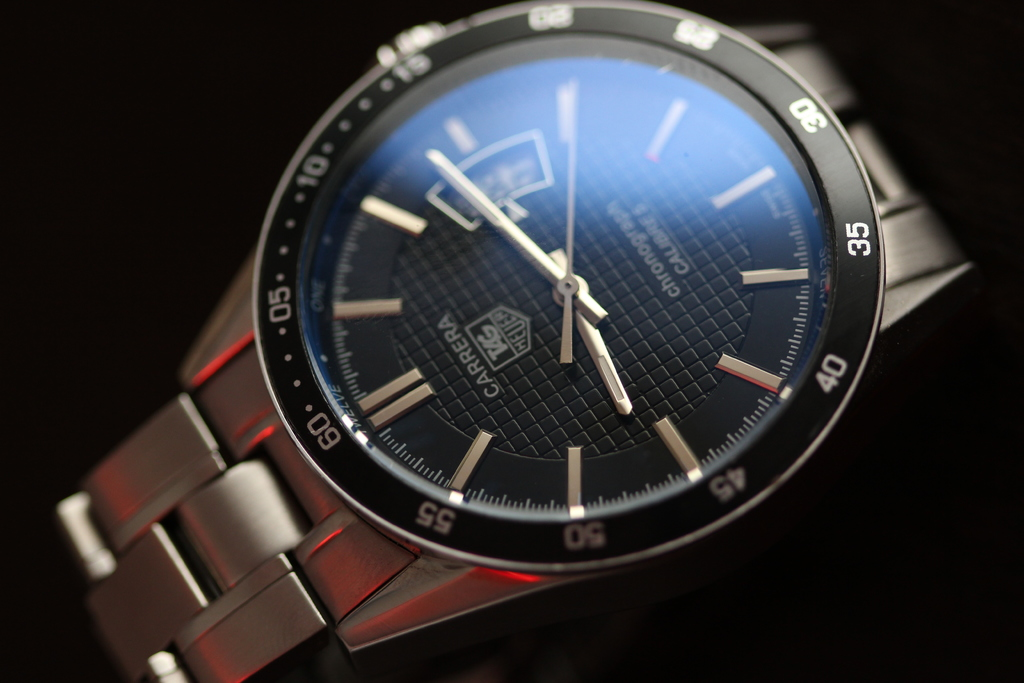watch: (51, 0, 972, 682)
